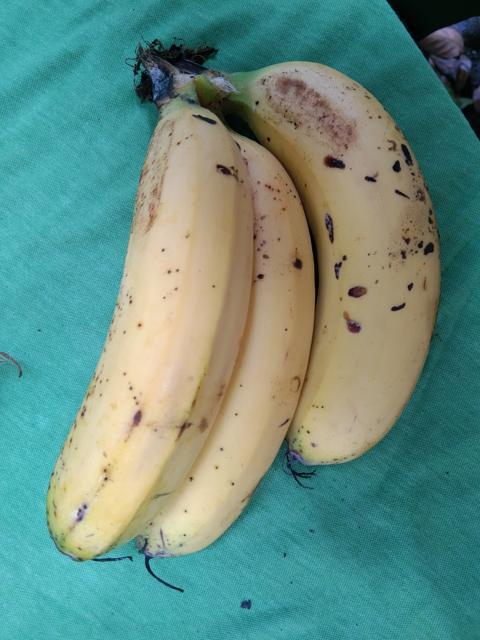ripe: (33, 87, 261, 559), (232, 49, 450, 479), (127, 125, 314, 563)
